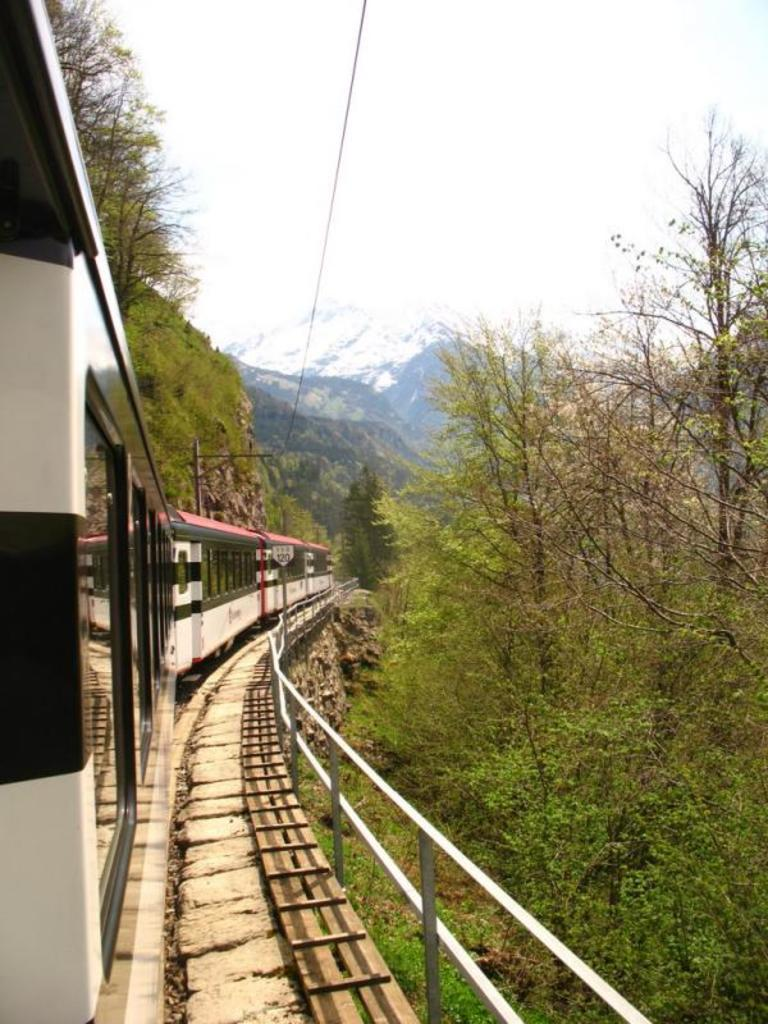Tree: (44, 0, 767, 1024)
